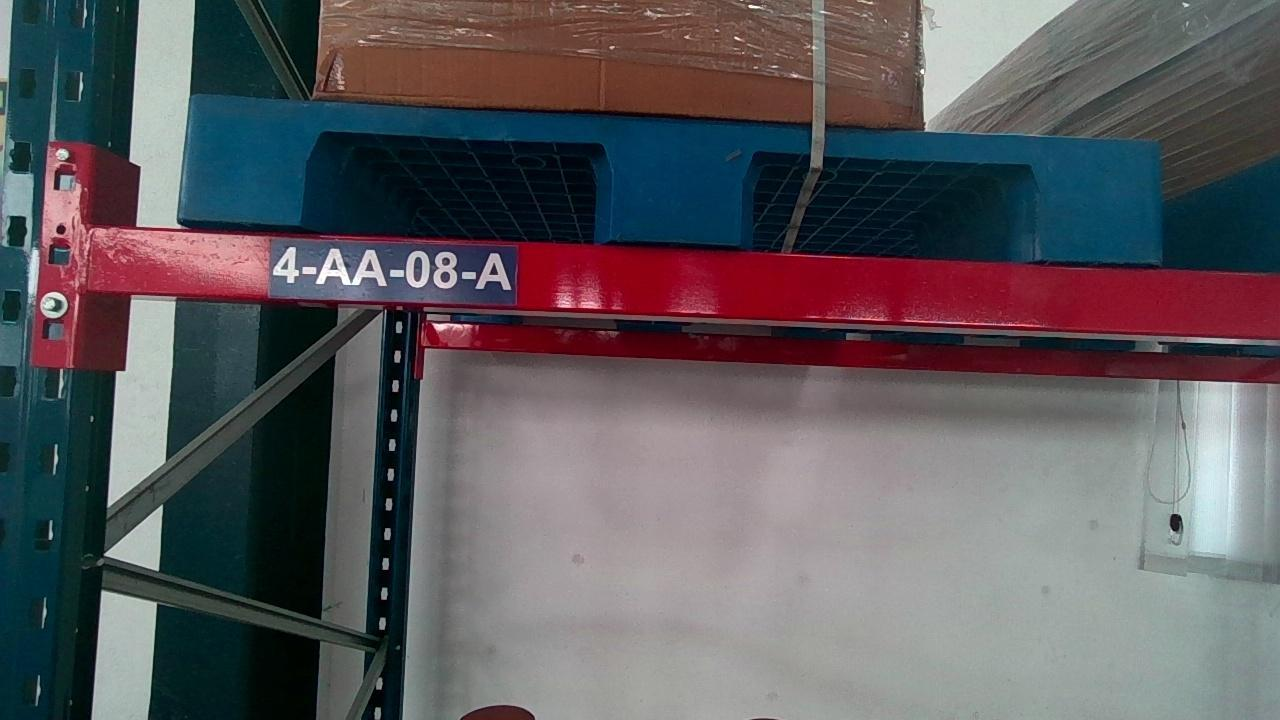h_rack: (89, 238, 1264, 323)
small_pallet: (161, 110, 1172, 243)
